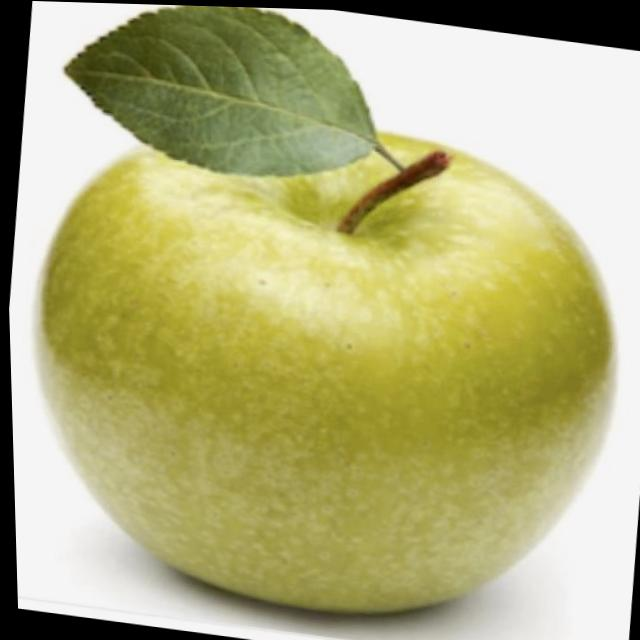Apple: (2, 82, 640, 640)
